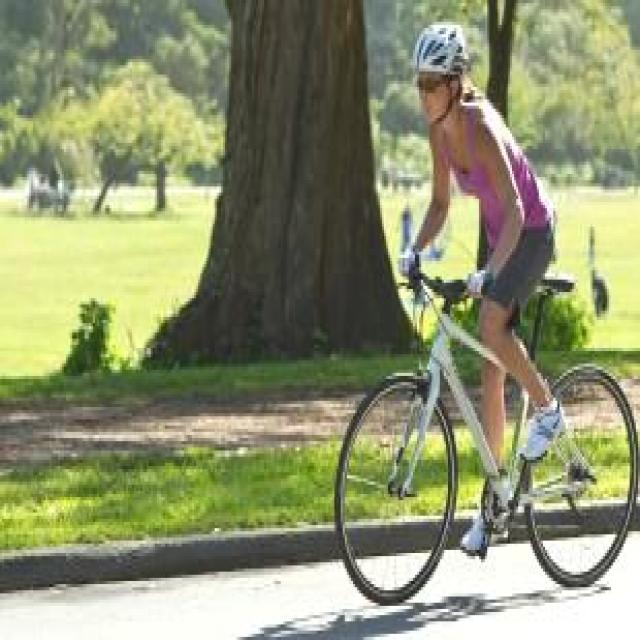bikerider: (316, 12, 638, 618)
